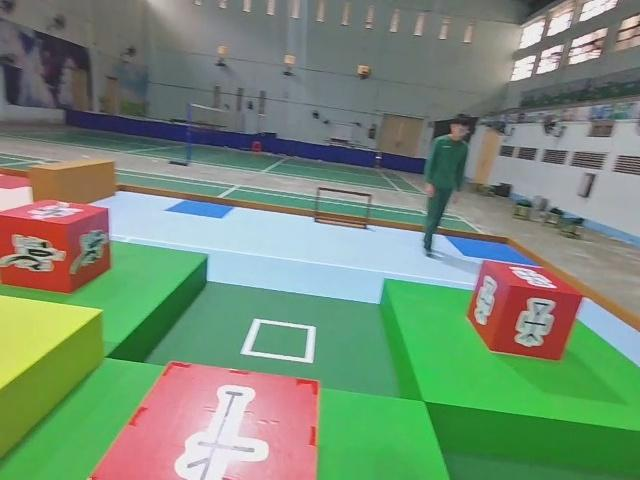R1: (0, 197, 116, 296)
R2 Real: (92, 358, 320, 480), (463, 257, 585, 362)
